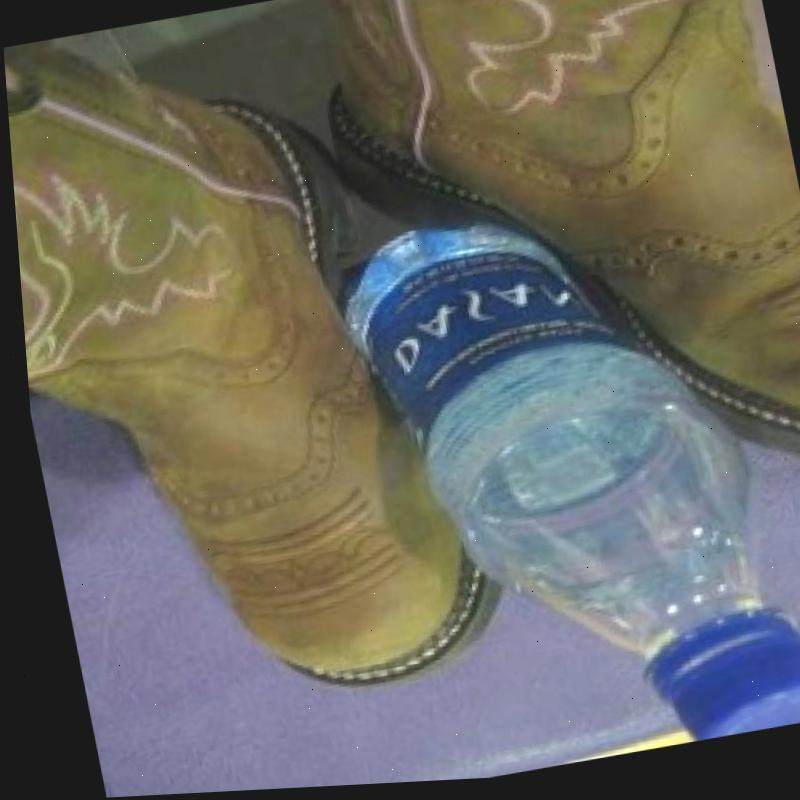botella: (317, 172, 800, 788)
